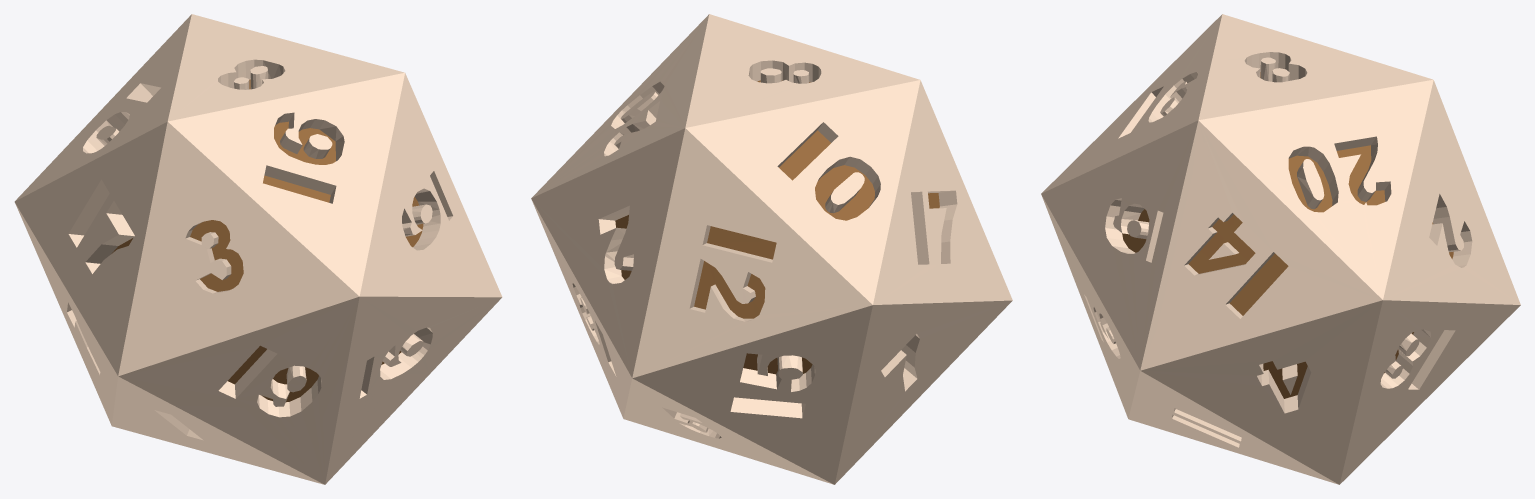
The model's file is Boardgame_Dice_D20_Red_01.fbx.
The picture shows the model from 3 angles, left to right: view 1: azimuth 30°, elevation 25°; view 2: azimuth 150°, elevation 25°; view 3: azimuth 270°, elevation 25°; orthographic projection.
Parts seen in each view (by area): view 1: Boardgame_Dice_D20_Red_01; view 2: Boardgame_Dice_D20_Red_01; view 3: Boardgame_Dice_D20_Red_01.
Part boxes in pixels (x1=…): Boardgame_Dice_D20_Red_01: x1=14, y1=14, x2=502, y2=484; Boardgame_Dice_D20_Red_01: x1=531, y1=14, x2=1012, y2=484; Boardgame_Dice_D20_Red_01: x1=1041, y1=14, x2=1520, y2=484.
Bounding box in the file's own units: 75.15 × 68.02 × 82.2.
